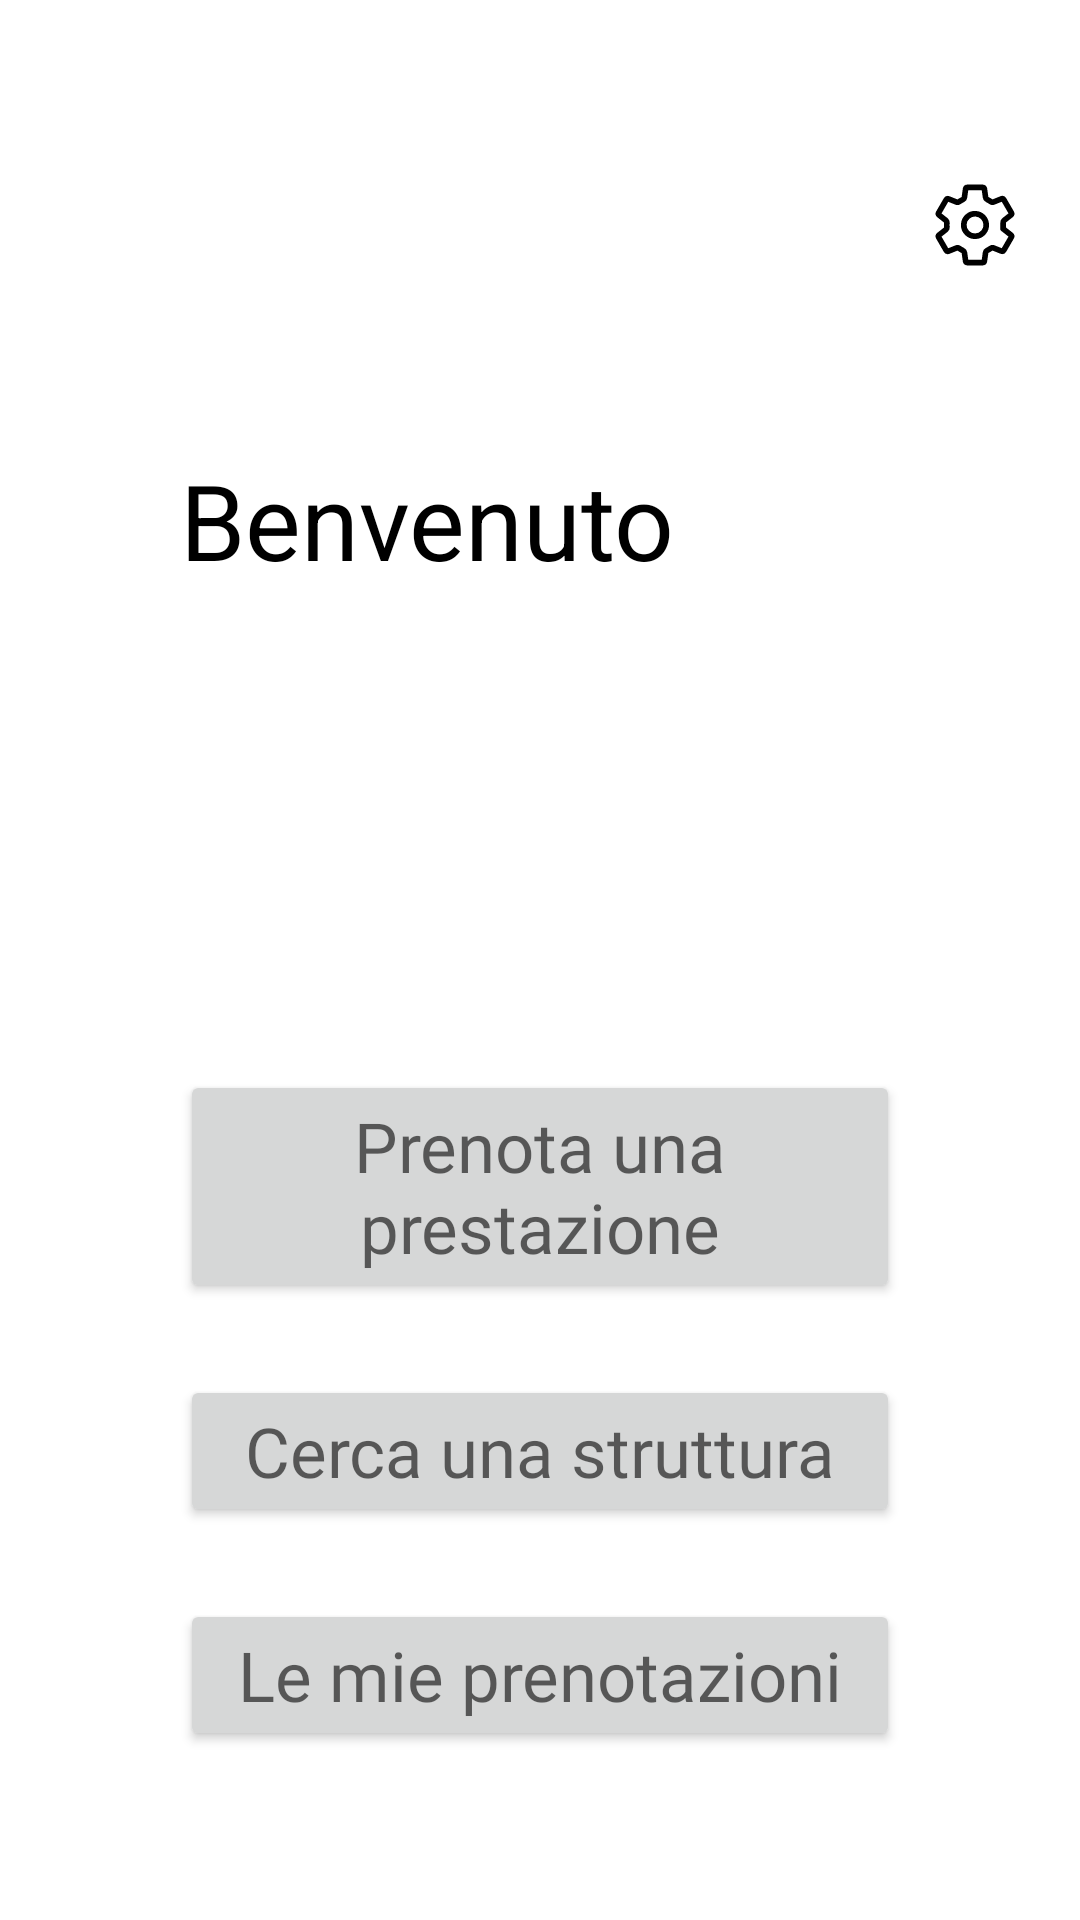

Named icons in this screenshot (1080 × 1920) and their centers, (x,y):
settings: (975,225)
